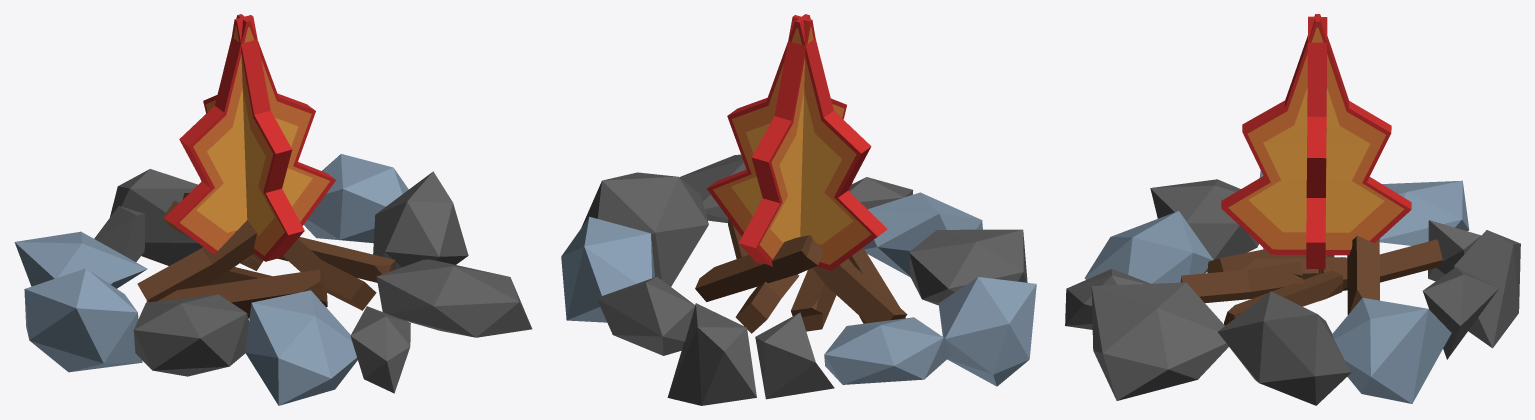
File: Fire Wood & Stone.fbx
The picture shows the model from 3 angles, left to right: view 1: azimuth 30°, elevation 25°; view 2: azimuth 150°, elevation 25°; view 3: azimuth 270°, elevation 25°; orthographic projection. The views are drawn at different scales.
Visible parts, largest first — view 1: M_Fire Wood & Stone; view 2: M_Fire Wood & Stone; view 3: M_Fire Wood & Stone.
Part boxes in pixels (x1,y1,x2,y2): M_Fire Wood & Stone: [14, 14, 532, 405]; M_Fire Wood & Stone: [561, 14, 1036, 405]; M_Fire Wood & Stone: [1065, 14, 1520, 405].
Size of the model in its own units: 22.43 by 15.54 by 20.52.
1 material, 1 textured.
